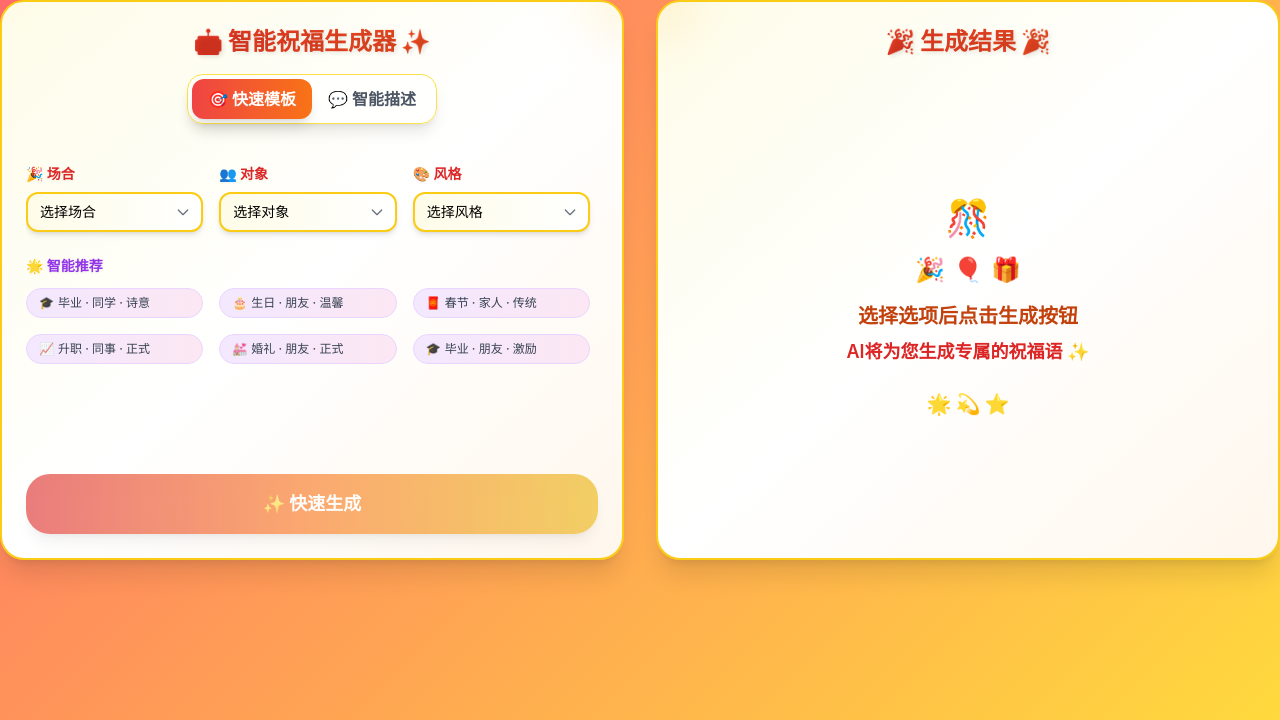
Test: BlessingGenerator › regenerates blessing when regenerate button is clicked
The image size is (1280, 720).
// Generate initial blessing
Click the button "💬 智能描述": (372, 99) [312,79,432,119]
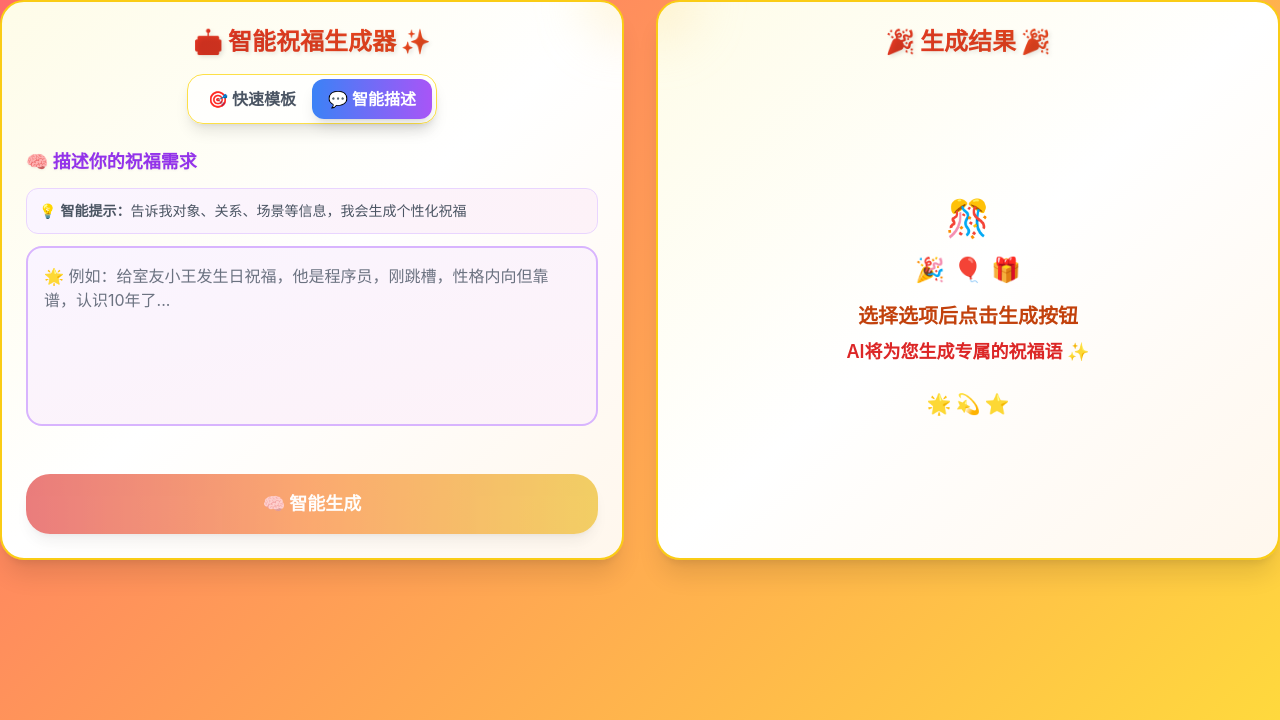
In the text box with placeholder "🌟 例如：给室友小王发生日祝福，他是程序员，刚跳槽，性格内向但靠谱，认识10年了...": (312, 336) [26,246,598,426], type "生日祝福"
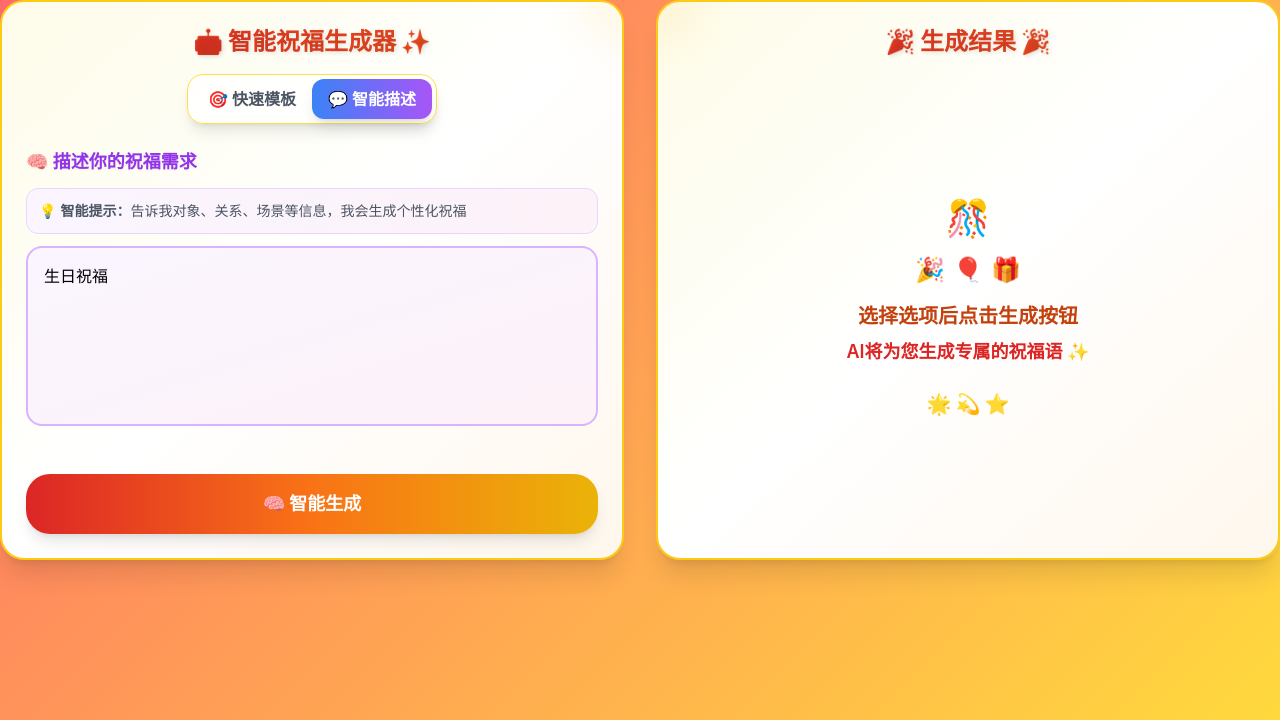
Click the button with aria-label "根据你的描述生成个性化祝福语": (312, 504) [26,474,598,534]
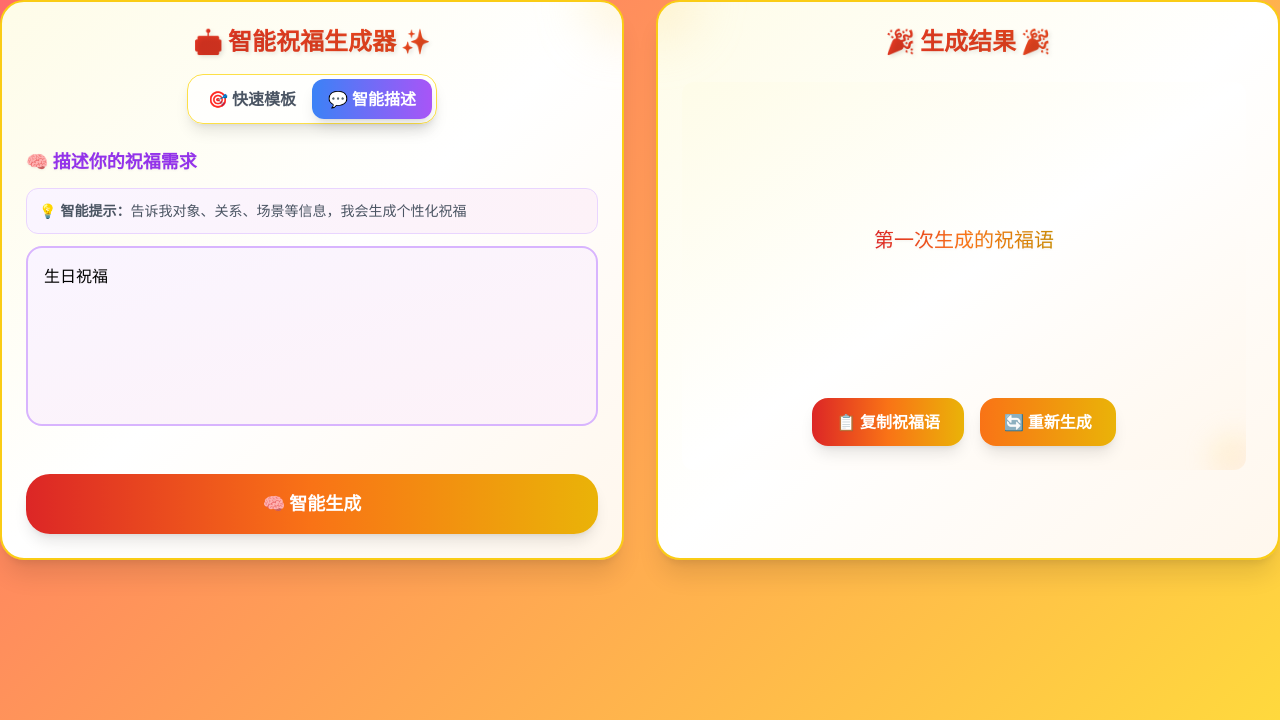
Check: the text "第一次生成的祝福语" is shown, box [874,224,1054,256]
// Click regenerate
Click the button with aria-label "重新生成祝福语": (1048, 422) [980,398,1116,446]
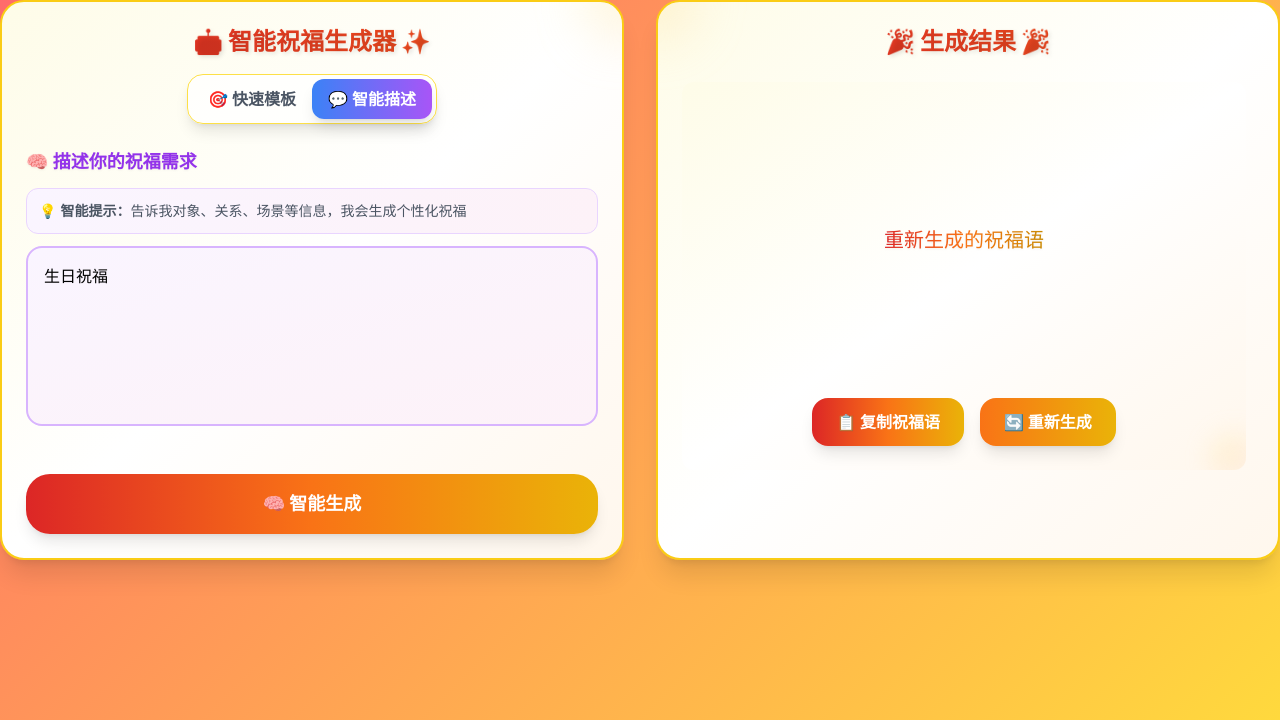
Check: the text "重新生成的祝福语" is shown, box [884,224,1044,256]
